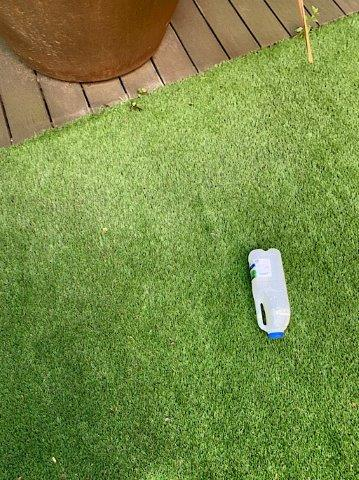botolplastik: (249, 249, 291, 337)
